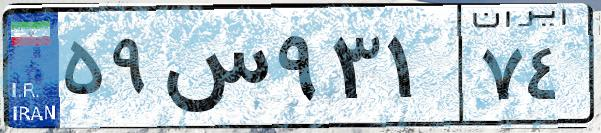1: (385, 28, 445, 110)
3: (330, 28, 385, 110)
4: (525, 38, 570, 115)
5: (57, 26, 110, 100)
7: (475, 38, 525, 113)
9: (270, 28, 330, 110), (110, 28, 158, 98)
س: (158, 20, 270, 120)
